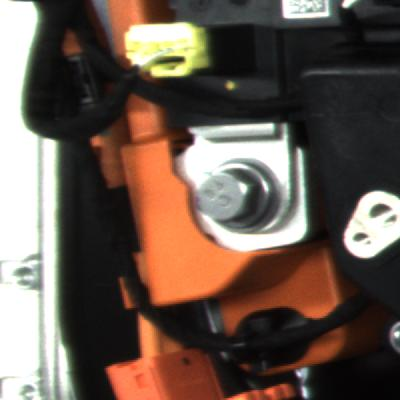nut_b: (180, 146, 289, 241)
